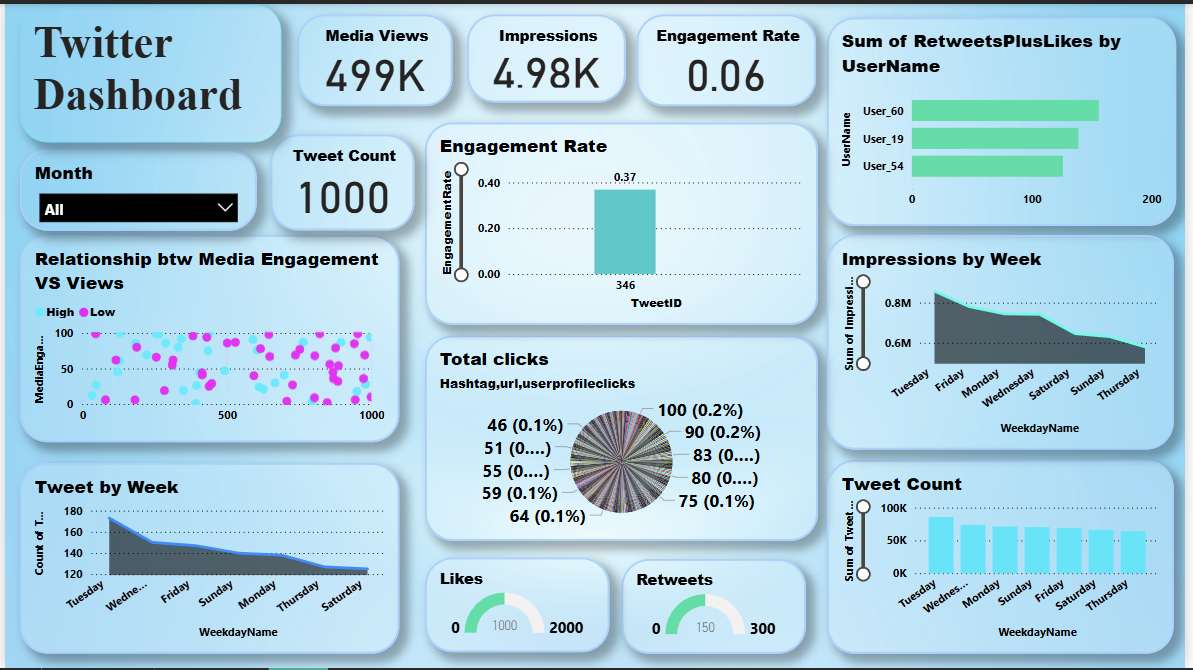

The page's visual inventory and layout, read from the dashboard file:
{"tool":"powerbi","page":{"name":"Page 1","canvas":[1280,720],"ordinal":0},"visuals":[{"type":"pieChart","title":"Total clicks ","fields":{"Y":["Sum(ClickTypeTable.Clicks)"],"Category":["TwitterData.TweetID","TwitterData.URLClicks","TwitterData.UserProfileClicks","TwitterData.HashtagClicks"]},"box":[455.4,359.5,426.2,222.8],"z":0},{"type":"columnChart","title":"Engagement Rate ","fields":{"Category":["TwitterData.TweetID"],"Y":["TwitterData.EngagementRate"]},"box":[455.4,128.5,426.2,219.6],"z":1000},{"type":"scatterChart","title":"Relationship btw Media Engagement VS Views","fields":{"X":["TwitterData.MediaViews"],"Y":["TwitterData.MediaEngagements"],"Series":["TwitterData.EngagementHightlight"]},"box":[15.9,250.2,411,224.4],"z":2000},{"type":"barChart","fields":{"Y":["Sum(TwitterData.RetweetsPlusLikes)"],"Category":["TwitterData.UserName"]},"box":[891.3,14.6,379,226.1],"z":3000},{"type":"clusteredColumnChart","title":" Tweet Count","fields":{"Y":["Sum(TwitterData.TweetID)"],"Category":["TwitterData.WeekdayName"]},"box":[891.3,494.5,375.7,209.8],"z":4000},{"type":"lineChart","title":"Impressions by Week","fields":{"Category":["TwitterData.WeekdayName"],"Y":["Sum(TwitterData.Impressions)"]},"box":[891.3,250.5,375.7,232.6],"z":5000},{"type":"lineChart","title":"Tweet by Week","fields":{"Y":["CountNonNull(TwitterData.TweetID)"],"Category":["TwitterData.WeekdayName"]},"box":[16.3,497.7,411.5,206.6],"z":6000},{"type":"gauge","title":" Retweets","fields":{"Y":["Max(TwitterData.Retweets)"]},"box":[668.5,601.8,200.1,102.5],"z":7000},{"type":"gauge","title":"Likes","fields":{"Y":["CountNonNull(TwitterData.Likes)"]},"box":[455.4,600.2,200.1,102.5],"z":8000},{"type":"card","title":"Media Views","fields":{"Values":["Sum(TwitterData.MediaViews)"]},"box":[318,12.2,168.1,99.2],"z":9000},{"type":"card","title":"Impressions ","fields":{"Values":["Avg(TwitterData.Impressions)"]},"box":[500.3,12.2,172.2,95.2],"z":10000},{"type":"card","title":"Engagement Rate","fields":{"Values":["TwitterData.EngagementRate"]},"box":[684.6,12.2,194.4,99.2],"z":11000},{"type":"card","title":"Tweet Count","fields":{"Values":["CountNonNull(TwitterData.TweetID)"]},"box":[287.9,141.5,156.1,104.1],"z":12000},{"type":"slicer","title":"Month","fields":{"Values":["TwitterData.TweetDate.Variation.Date Hierarchy.Month"]},"box":[16.3,157.8,257,87.8],"z":13000},{"type":"textbox","box":[16.2,0,283.5,149.9],"z":14000}]}

Visuals, with their boxes in screenshot pixels (x1, y1, x2, y2), scaled from the page's 1280x720 canvas onto the 1193x670 screenshot:
"Total clicks " pieChart: left=424, top=335, right=822, bottom=542
"Engagement Rate " columnChart: left=424, top=120, right=822, bottom=324
"Relationship btw Media Engagement VS Views" scatterChart: left=15, top=233, right=398, bottom=442
barChart - Sum(TwitterData.RetweetsPlusLikes) x TwitterData.UserName: left=831, top=14, right=1184, bottom=224
" Tweet Count" clusteredColumnChart: left=831, top=460, right=1181, bottom=655
"Impressions by Week" lineChart: left=831, top=233, right=1181, bottom=450
"Tweet by Week" lineChart: left=15, top=463, right=399, bottom=655
" Retweets" gauge: left=623, top=560, right=810, bottom=655
"Likes" gauge: left=424, top=559, right=611, bottom=654
"Media Views" card: left=296, top=11, right=453, bottom=104
"Impressions " card: left=466, top=11, right=627, bottom=100
"Engagement Rate" card: left=638, top=11, right=819, bottom=104
"Tweet Count" card: left=268, top=132, right=414, bottom=229
"Month" slicer: left=15, top=147, right=255, bottom=229
textbox: left=15, top=0, right=279, bottom=139
